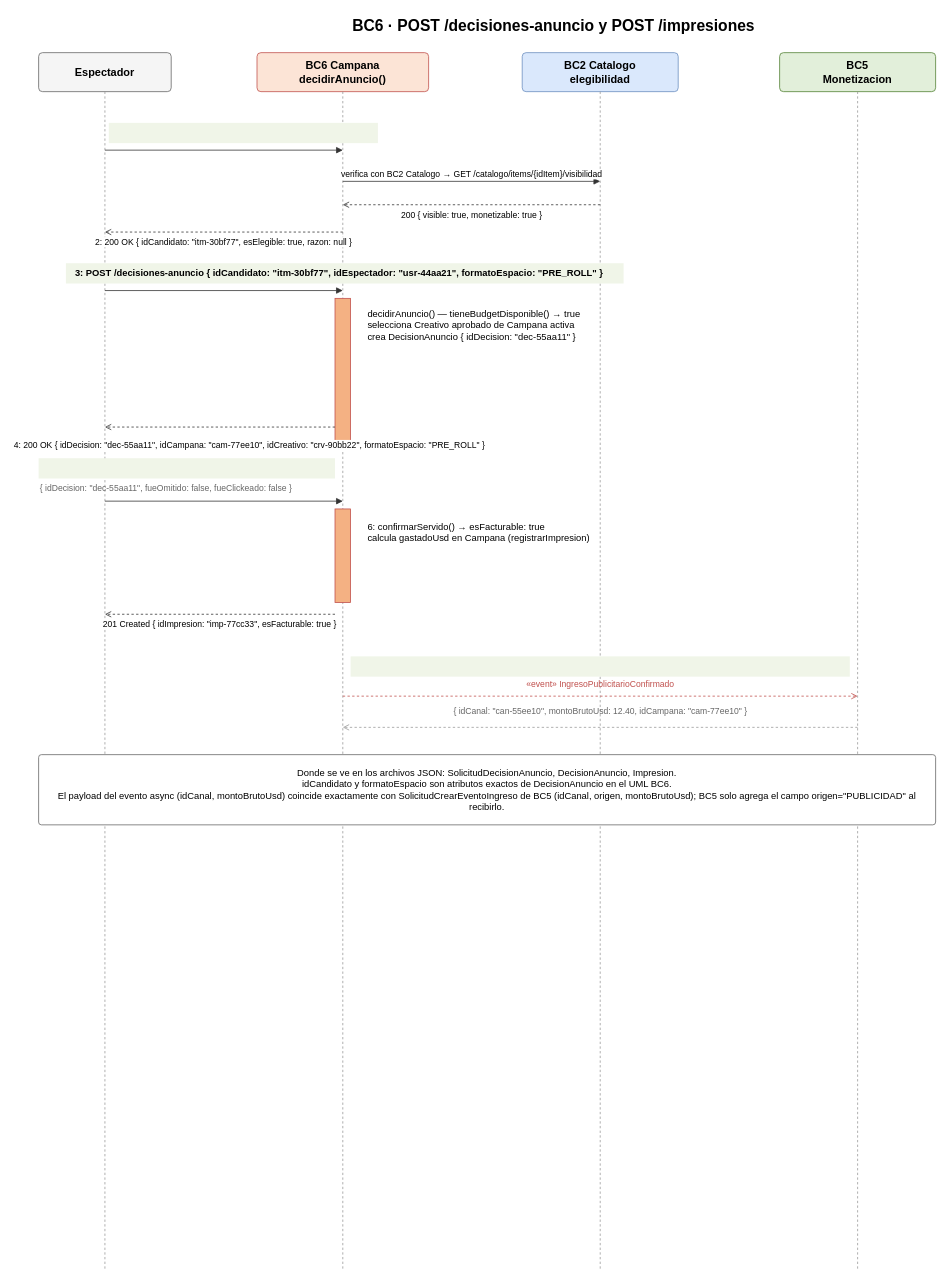
This 949x1284 diagram has some shape labels left out. The centre of each missing label's shape, as x and y in pixels:
1: GET /espacios-publicitarios/{idCandidato}/elegibilidad: [243,132]
5: POST /impresiones (espectador confirmo que vio el anuncio): [186,468]
7: evento async → BC5 (IngresoPublicitarioConfirmado): [599,666]
